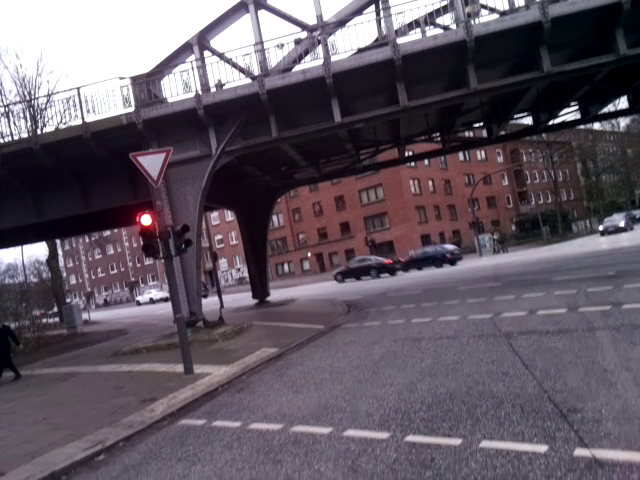car: (329, 247, 410, 286)
